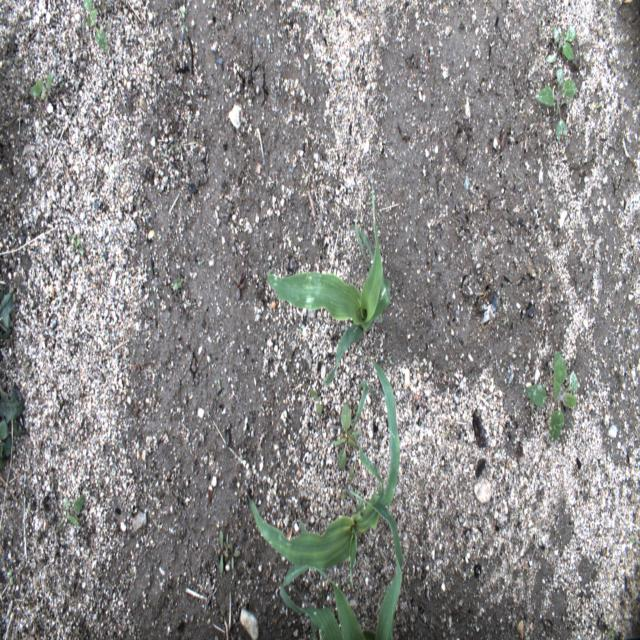crop: (247, 350, 401, 588), (264, 179, 392, 384), (279, 492, 402, 639)
weed: (526, 352, 578, 444), (534, 70, 578, 146), (0, 383, 26, 471), (332, 404, 358, 471), (83, 0, 109, 52), (56, 492, 86, 534), (544, 24, 576, 62), (0, 286, 16, 342), (29, 72, 54, 98), (340, 467, 354, 500), (218, 528, 228, 574), (226, 542, 240, 570), (308, 387, 322, 415), (232, 272, 245, 300), (70, 232, 84, 256), (606, 622, 618, 639), (173, 276, 185, 290), (224, 533, 232, 554), (180, 4, 186, 20), (8, 568, 13, 584), (218, 376, 222, 393), (630, 535, 635, 544)
